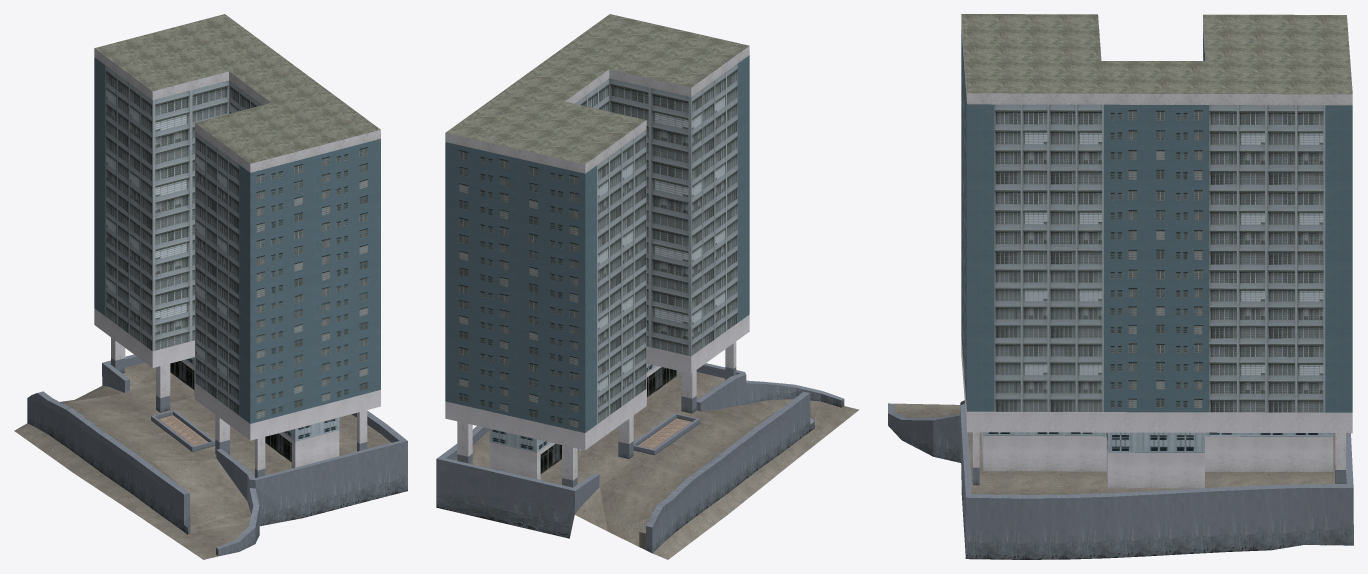
The model's file is templb1_lae2.obj.
3 views of the same model, side by side, from view 1: azimuth 30°, elevation 25°; view 2: azimuth 150°, elevation 25°; view 3: azimuth 270°, elevation 25° (orthographic). The views are drawn at different scales.
Visible parts, largest first — view 1: tempLB1_LAe2; view 2: tempLB1_LAe2; view 3: tempLB1_LAe2.
Part boxes in pixels (x1,y1,x2,y2): tempLB1_LAe2: (14,14,407,559); tempLB1_LAe2: (436,14,859,559); tempLB1_LAe2: (888,14,1353,559).
Bounding box in the file's own units: 48.87 × 71.62 × 67.22.
